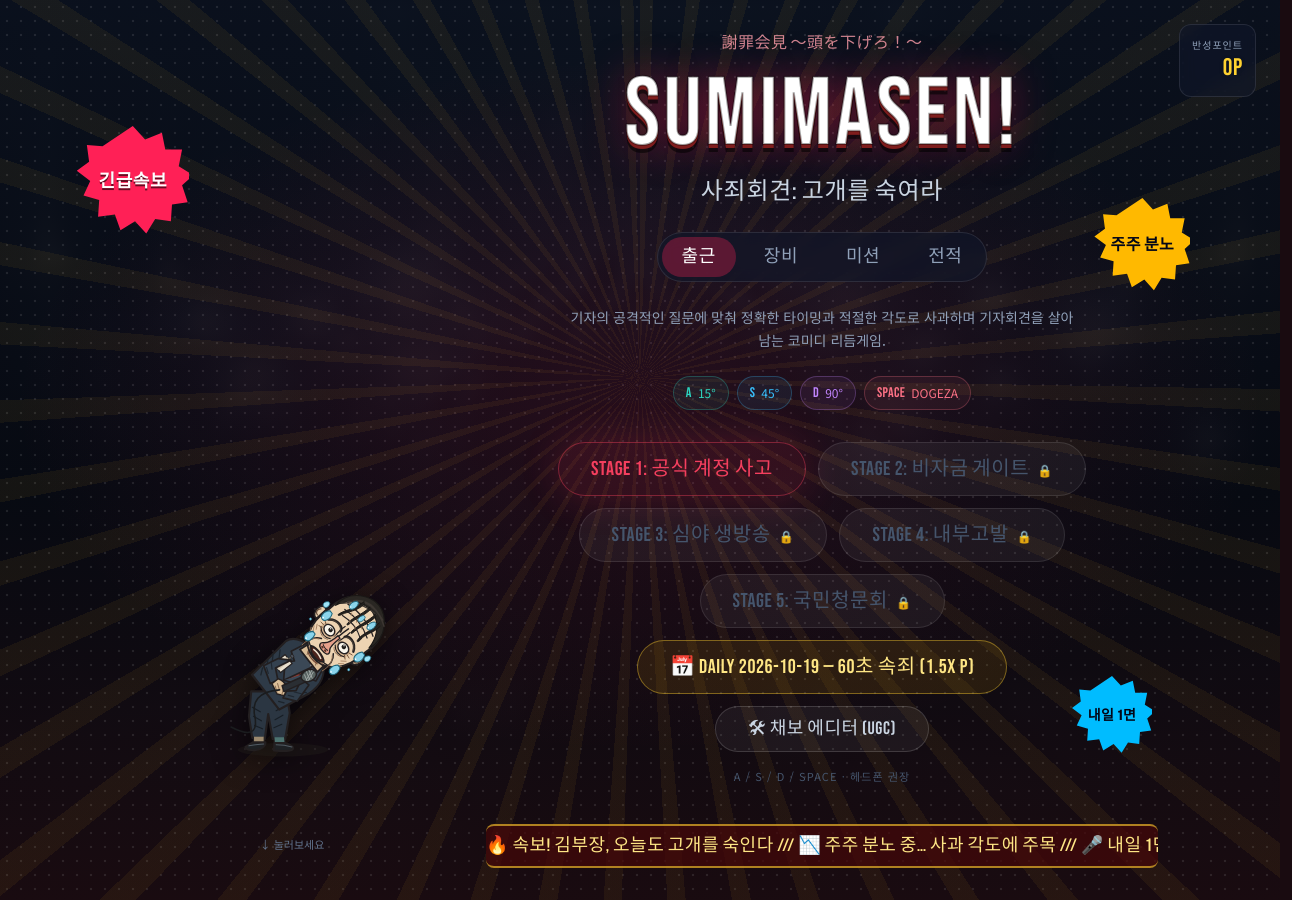
TitleScreen › 기록 탭: 내부 스테이지 ID 를 노출하지 않는다
The width and height of the screenshot is (1292, 900).
Click the button "전적".
click(945, 257)  # box [908, 237, 982, 277]
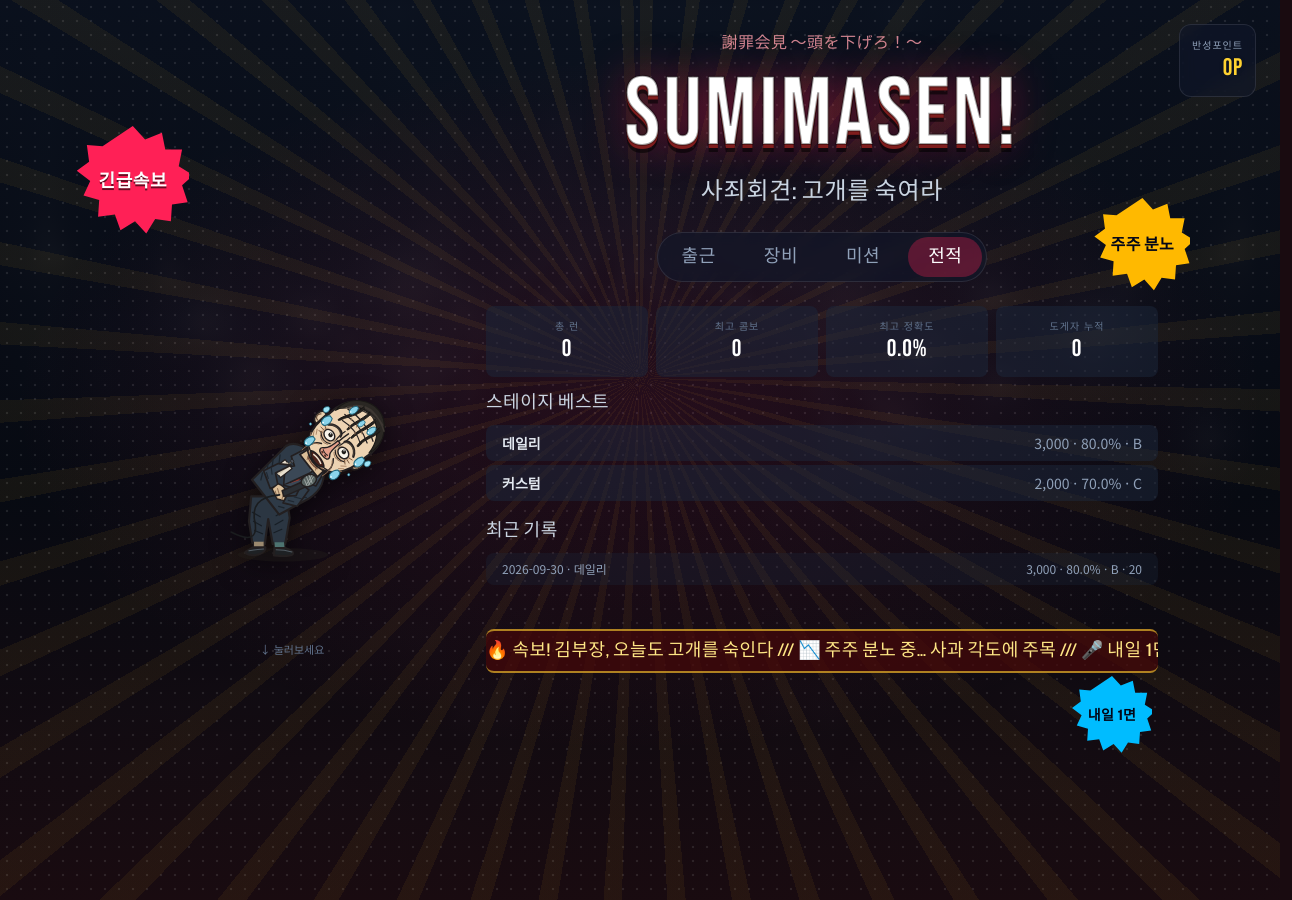
Now the text "데일리" is shown, box [502, 433, 541, 453]
Now the text "커스텀" is shown, box [502, 473, 541, 493]
